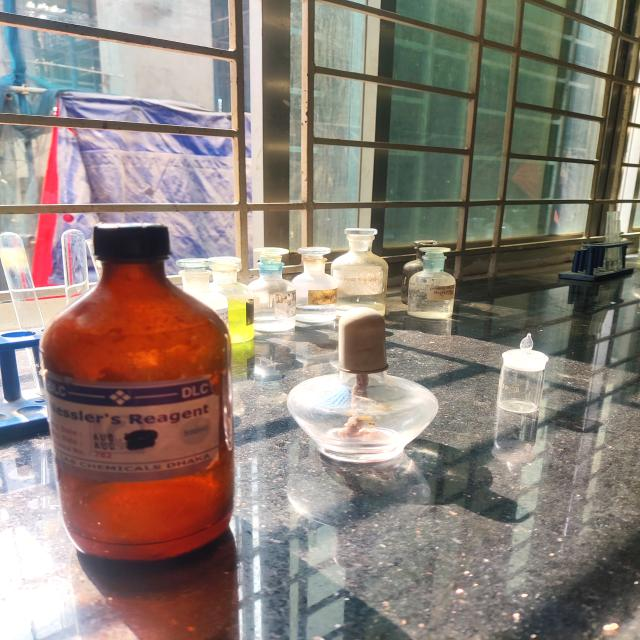Nessler_Reagent_Bottle: (28, 210, 262, 582)
Spirit_Lamp: (278, 299, 454, 488)
Weighing_Bottle: (484, 314, 574, 428)
